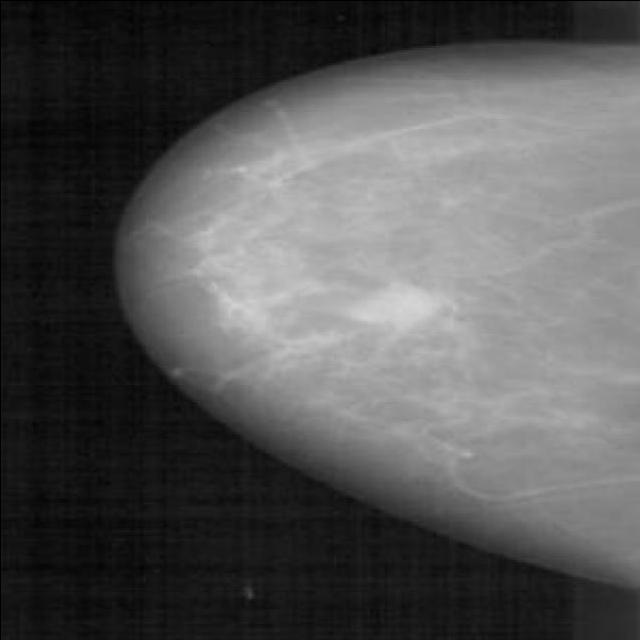tumor: (192, 218, 450, 372)
